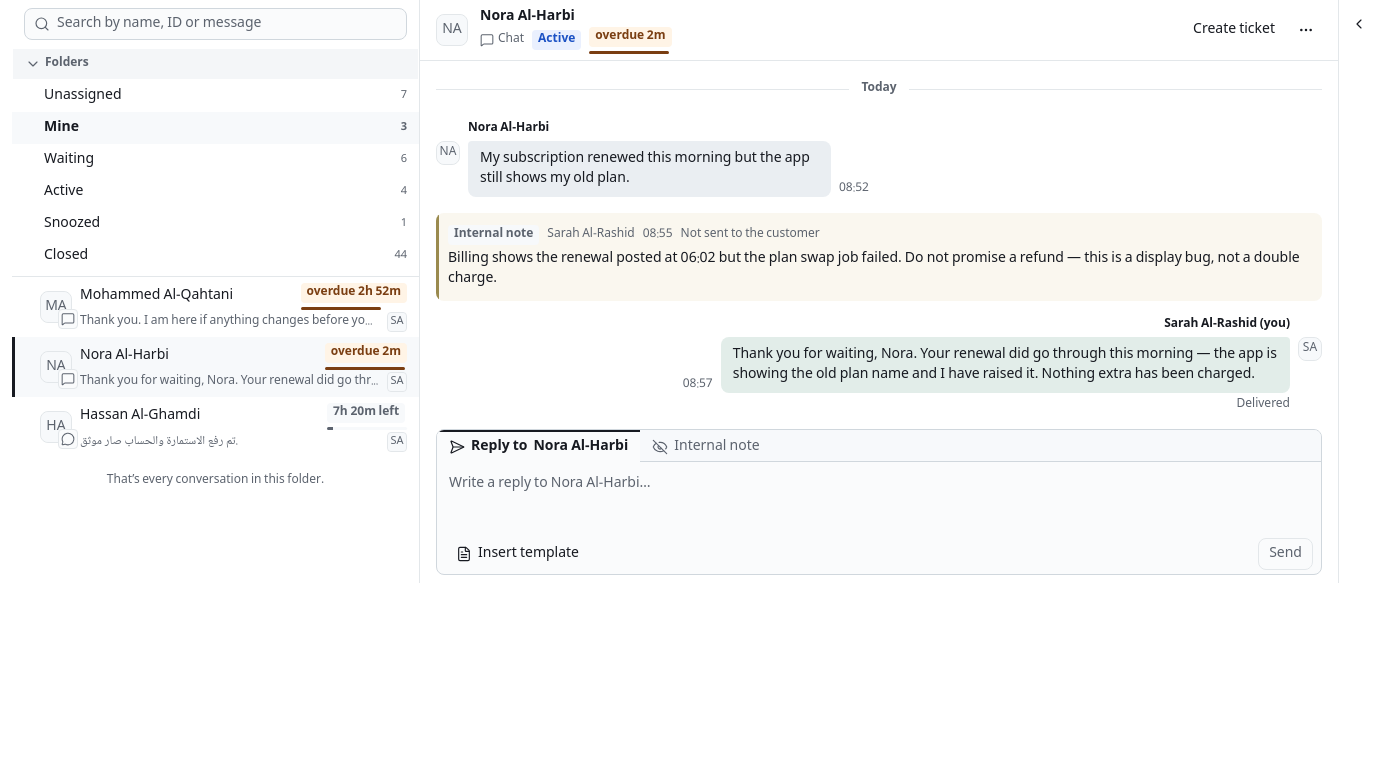
it: AC-CC-04 the list stays on screen while a thread is open › renders the list, the thread and the details rail together at 1280px, with the open row current
Expected: the list named "Conversations" is shown, [12,277,419,457]
What coordinates should you click on to do the following:
click the button named "Show details"
I would click on:
 (1358, 24)
Its box is [1342,8,1374,40].
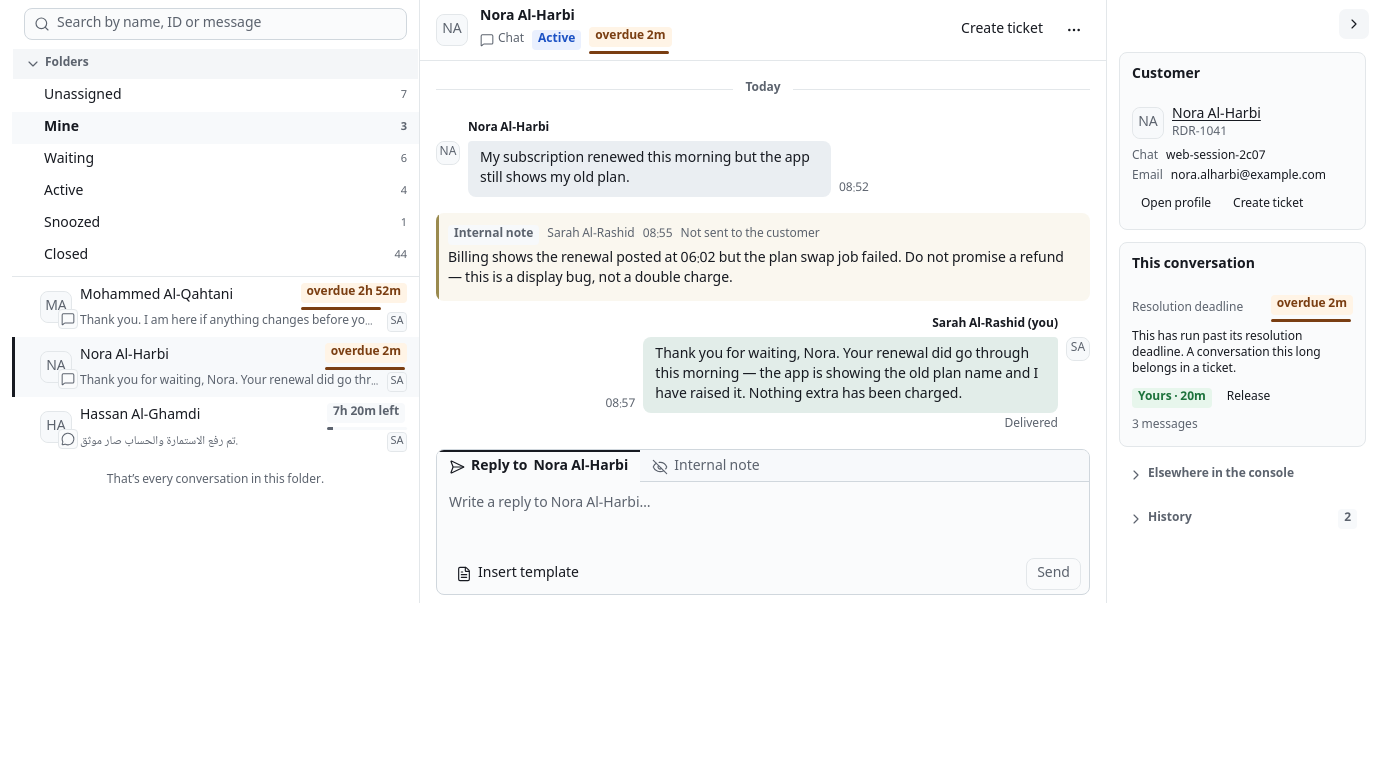
Now the element named "Details" is shown, box [1106,0,1378,603]
